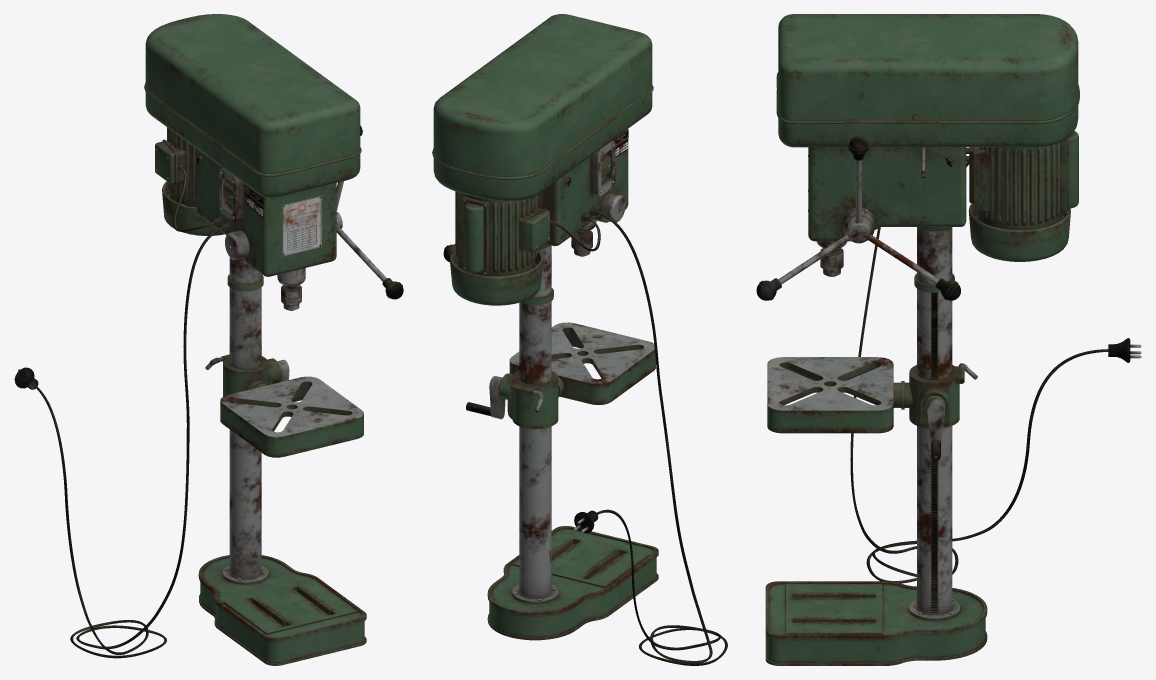
File: old_drill_press.glb
3 views of the same model, side by side, from view 1: azimuth 30°, elevation 25°; view 2: azimuth 150°, elevation 25°; view 3: azimuth 270°, elevation 25° (orthographic). The views are drawn at different scales.
Parts seen in each view (by area): view 1: old_drill_press, old_drill_press_cable; view 2: old_drill_press, old_drill_press_cable; view 3: old_drill_press, old_drill_press_cable.
Part boxes in pixels (x1,y1,x2,y2): old_drill_press: (144, 14, 403, 665); old_drill_press_cable: (14, 167, 222, 658); old_drill_press: (432, 14, 658, 640); old_drill_press_cable: (550, 211, 727, 665); old_drill_press: (756, 14, 1079, 665); old_drill_press_cable: (850, 162, 1141, 583).
Bounding box in the file's own units: 0.5272 × 1.05 × 0.6095.
Materials: 1 (1 with a texture image).
